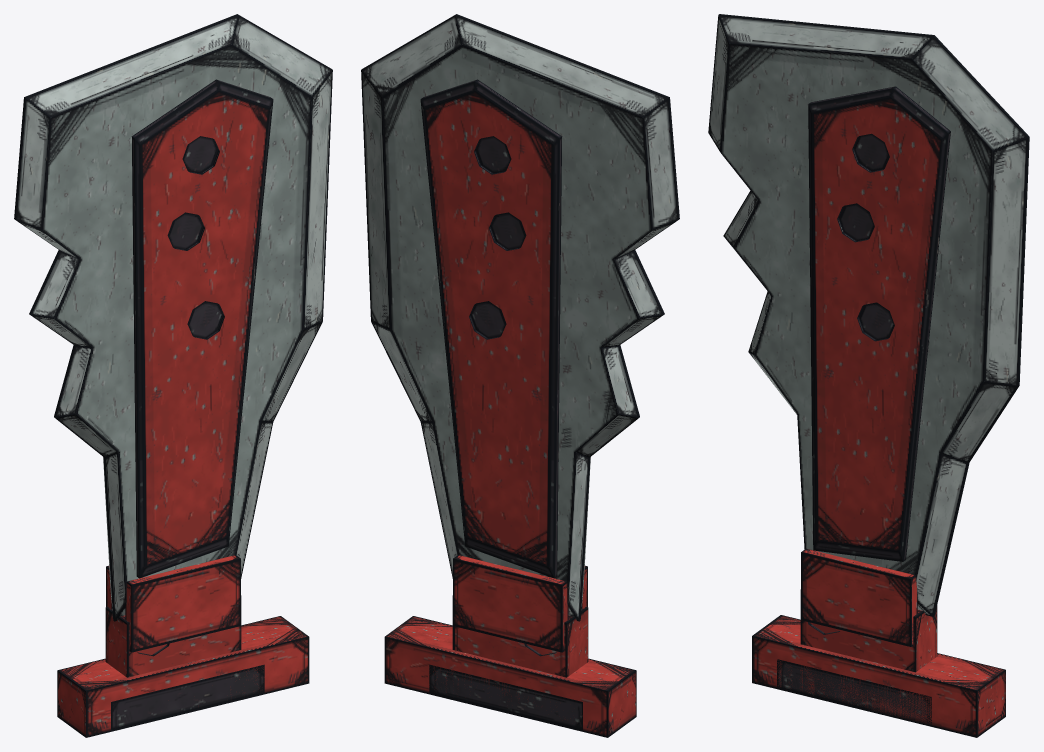
File: blade_bandit.glb
3 renders of one model, left to right at view 1: azimuth 30°, elevation 25°; view 2: azimuth 150°, elevation 25°; view 3: azimuth 330°, elevation 25°, orthographic.
Visible parts, largest first — view 1: blade_bandit; view 2: blade_bandit; view 3: blade_bandit.
Boxes of the visible parts, bbox=[...] form: blade_bandit: bbox=[14, 14, 332, 737]; blade_bandit: bbox=[361, 14, 679, 737]; blade_bandit: bbox=[708, 14, 1029, 737].
Bounding box in the file's own units: 0.64 × 1.3 × 0.1.
1 material, 1 textured.
